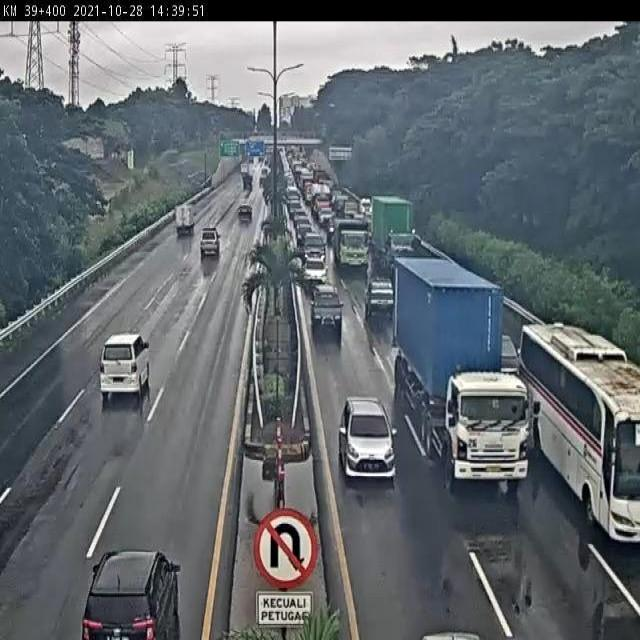big bus: (519, 326, 640, 542)
big truck: (396, 252, 530, 489), (369, 193, 411, 263), (330, 213, 367, 267)
car: (80, 548, 179, 640), (337, 398, 395, 478), (100, 331, 151, 401), (311, 280, 344, 327), (486, 324, 516, 372), (362, 275, 393, 312), (199, 225, 222, 259), (301, 231, 326, 261), (302, 255, 327, 281), (295, 226, 314, 246)
small truck: (174, 204, 195, 236)
